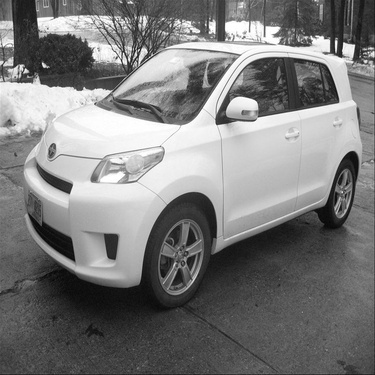car: (17, 28, 374, 303)
